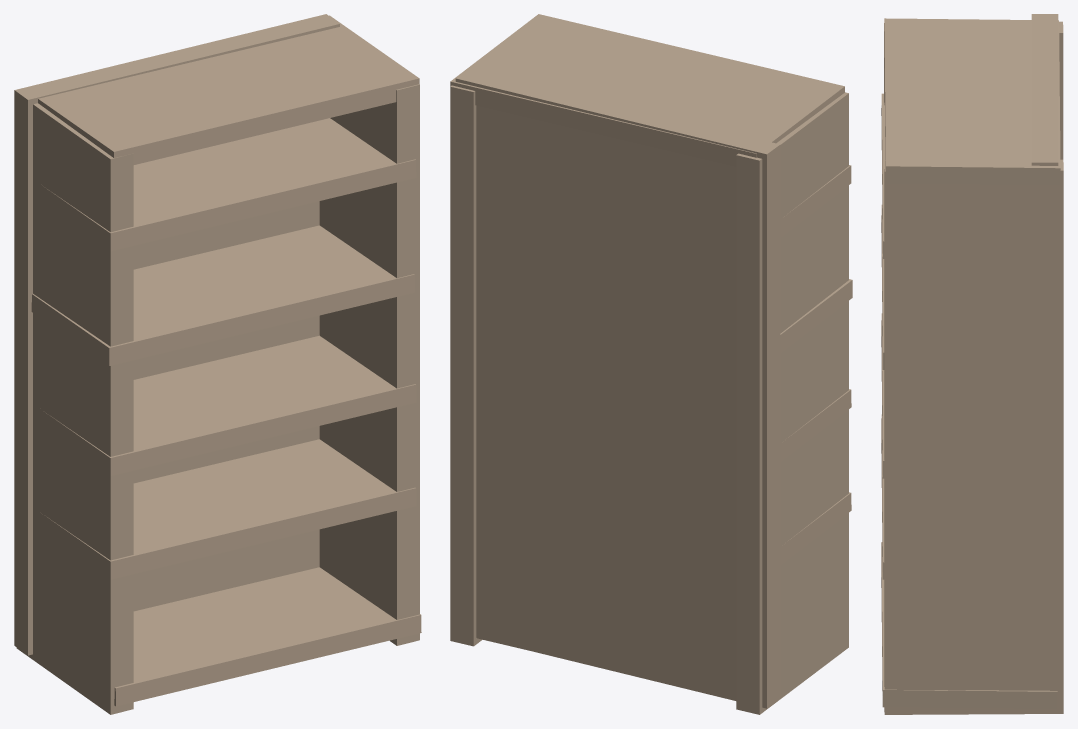
The model's file is bookShelf.fbx.
3 renders of one model, left to right at view 1: azimuth 30°, elevation 25°; view 2: azimuth 150°, elevation 25°; view 3: azimuth 270°, elevation 25°, orthographic. The views are drawn at different scales.
Visible parts, largest first — view 1: polySurface1; view 2: polySurface1; view 3: polySurface1.
Part boxes in pixels (x1=…): polySurface1: x1=14, y1=14, x2=421, y2=714; polySurface1: x1=450, y1=14, x2=852, y2=714; polySurface1: x1=881, y1=14, x2=1063, y2=714.
Bounding box in the file's own units: 6.75 × 11.45 × 3.44.
